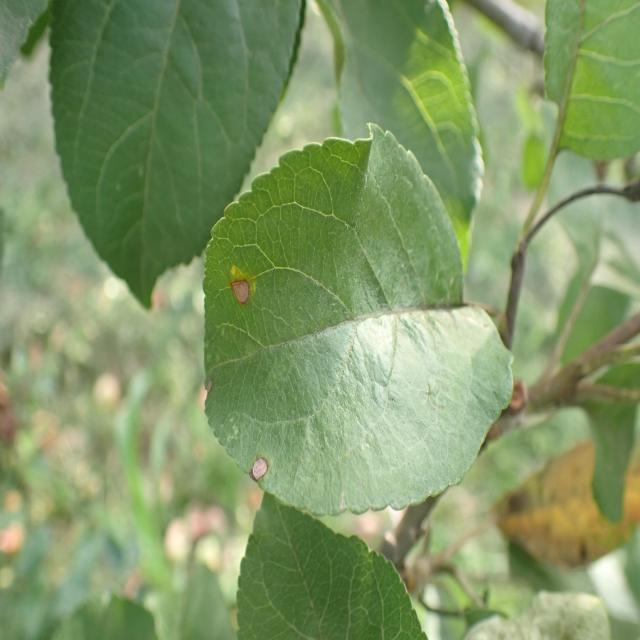Rust: (222, 252, 245, 281)
